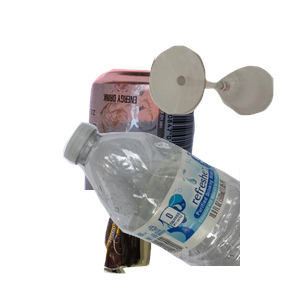glass: (147, 43, 300, 151)
metal: (82, 66, 270, 246)
plastic: (60, 120, 300, 300)
trash: (101, 157, 270, 300)
